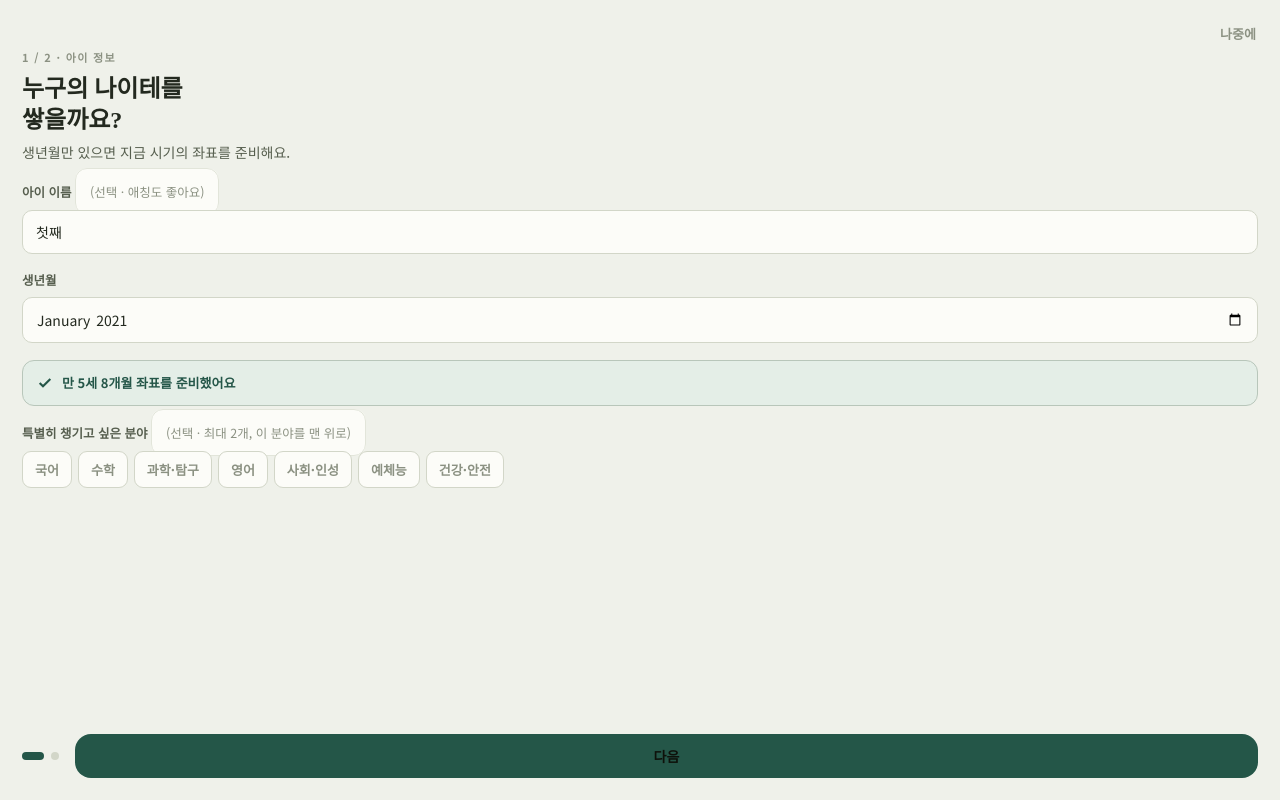
Test: S2 기관 등원 1탭 (§06-A 통찰-먼저) › ⭐ 유치원 질문이 뜨고, 기본은 "다녀요"
Click the button "다음".
click(666, 756)  # box [75,734,1258,778]
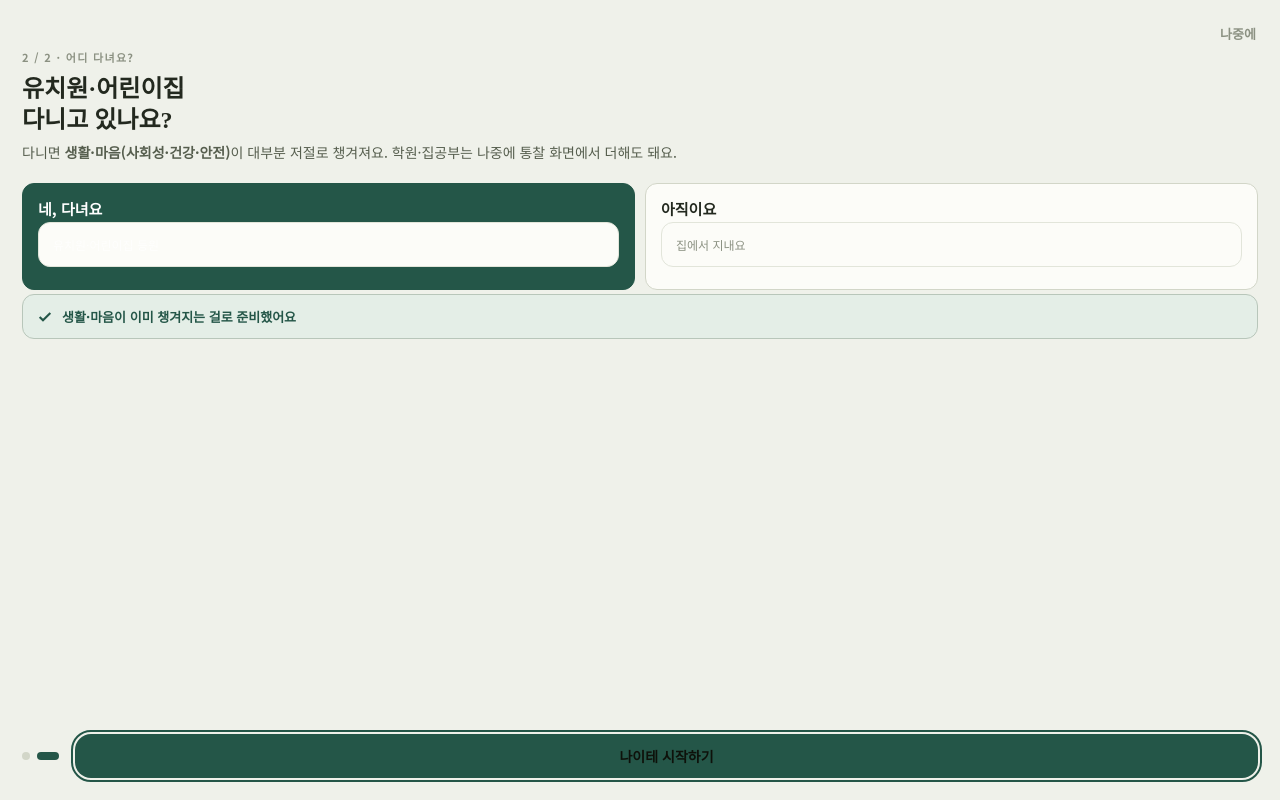
expect the element with test id "inst-pick" is shown: met, box [22,183,1258,290]
expect the text "유치원·어린이집 등원" is shown: met, box [38,222,619,267]
